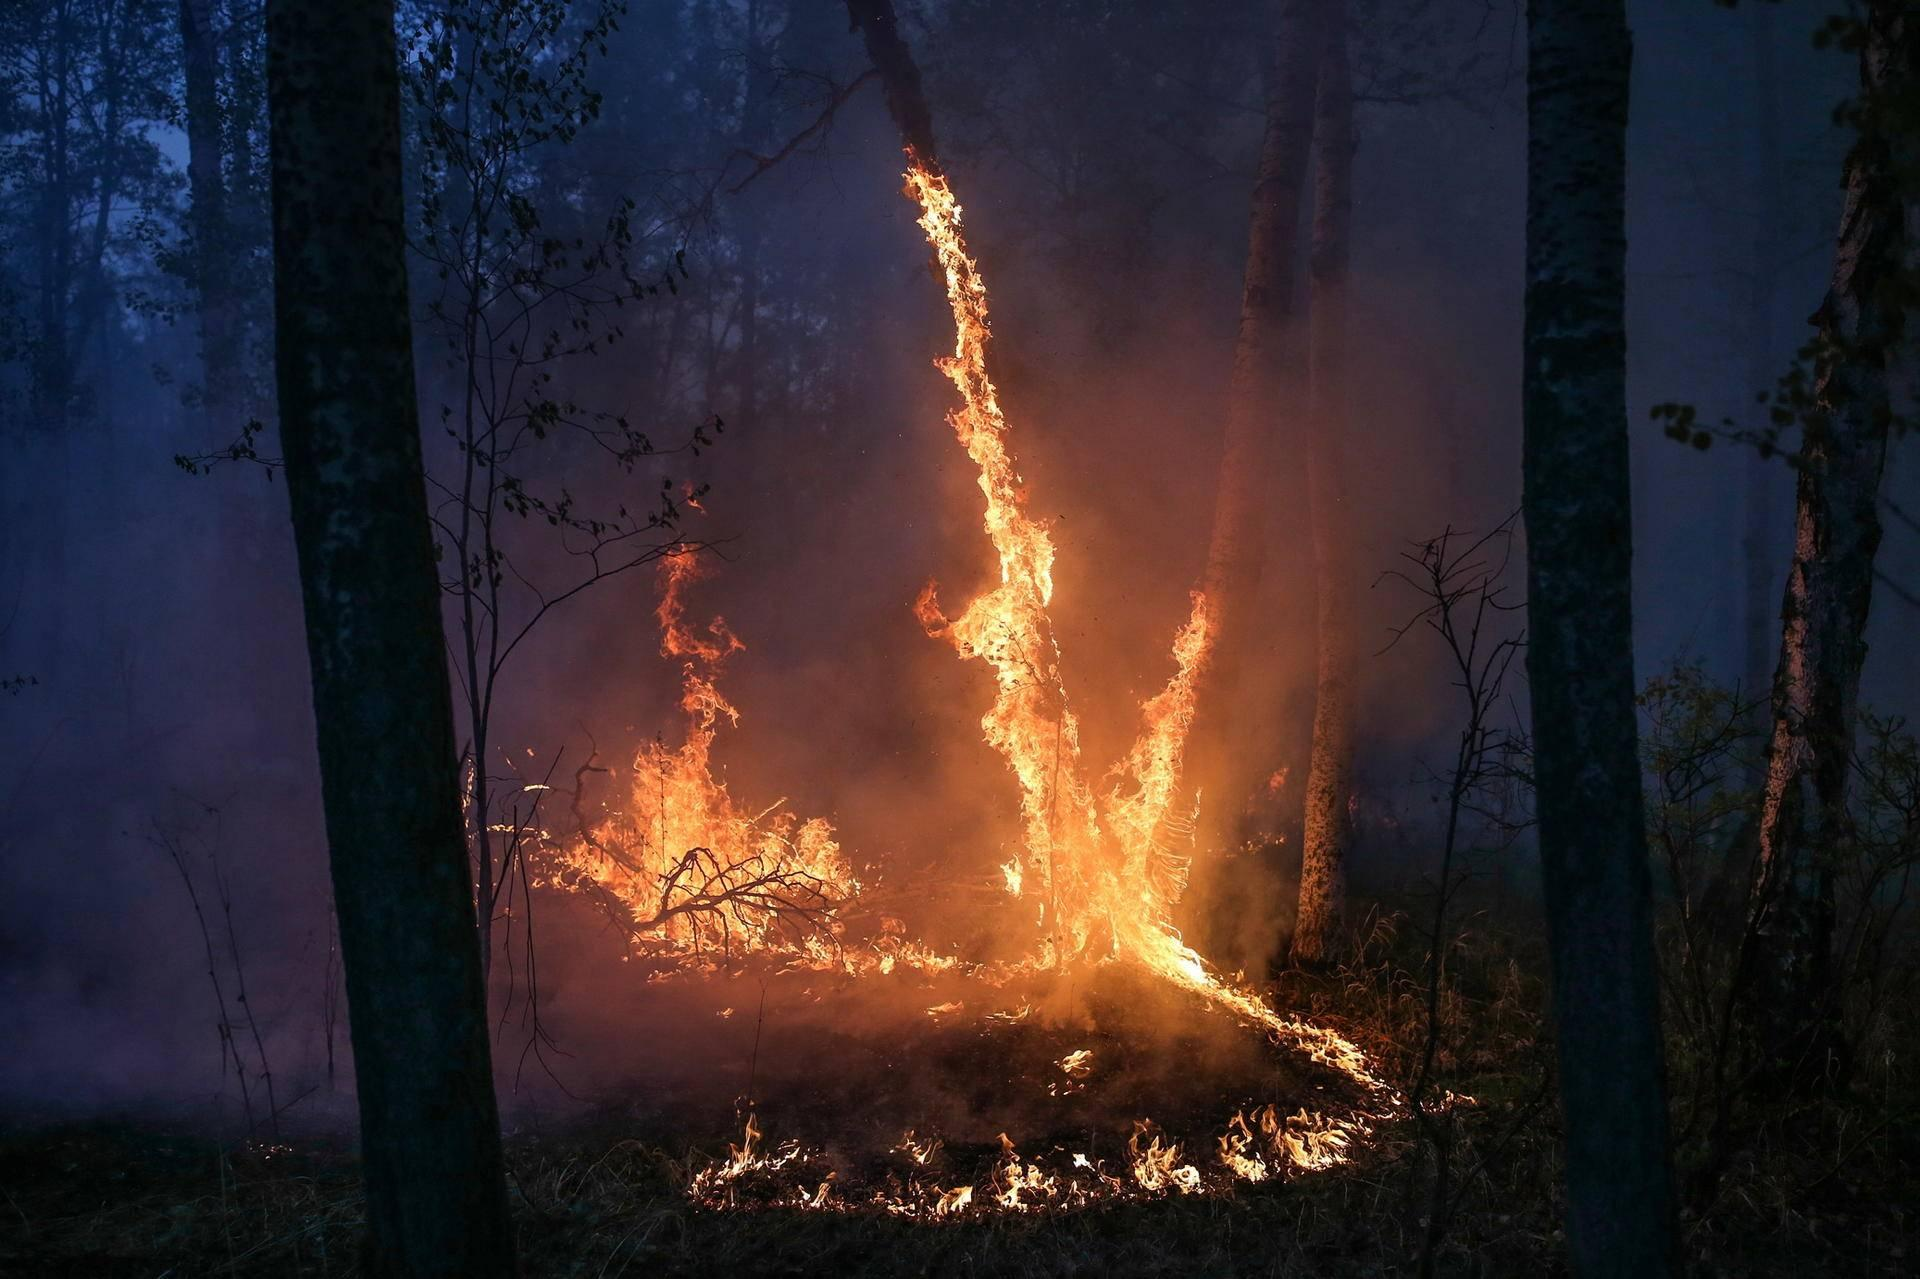smoke: (891, 127, 1356, 1062), (555, 478, 908, 986), (685, 1062, 1483, 1238)
